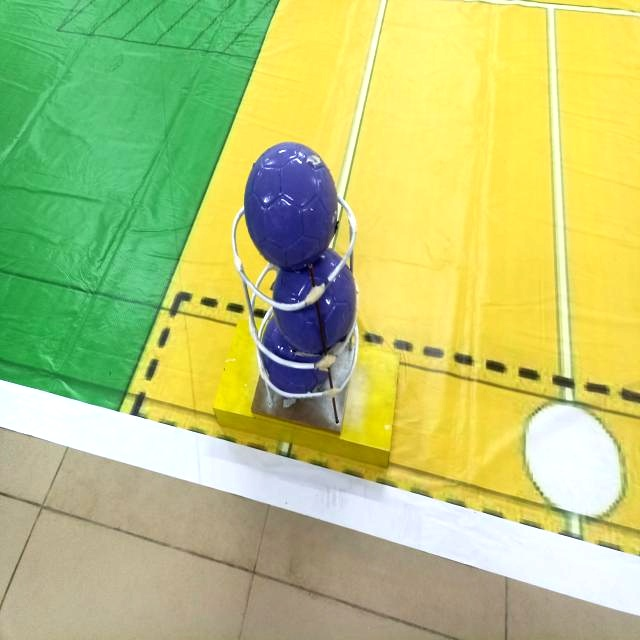purple_ball: (243, 139, 341, 268), (269, 259, 359, 353), (258, 320, 328, 392)
silo: (230, 196, 366, 447)
